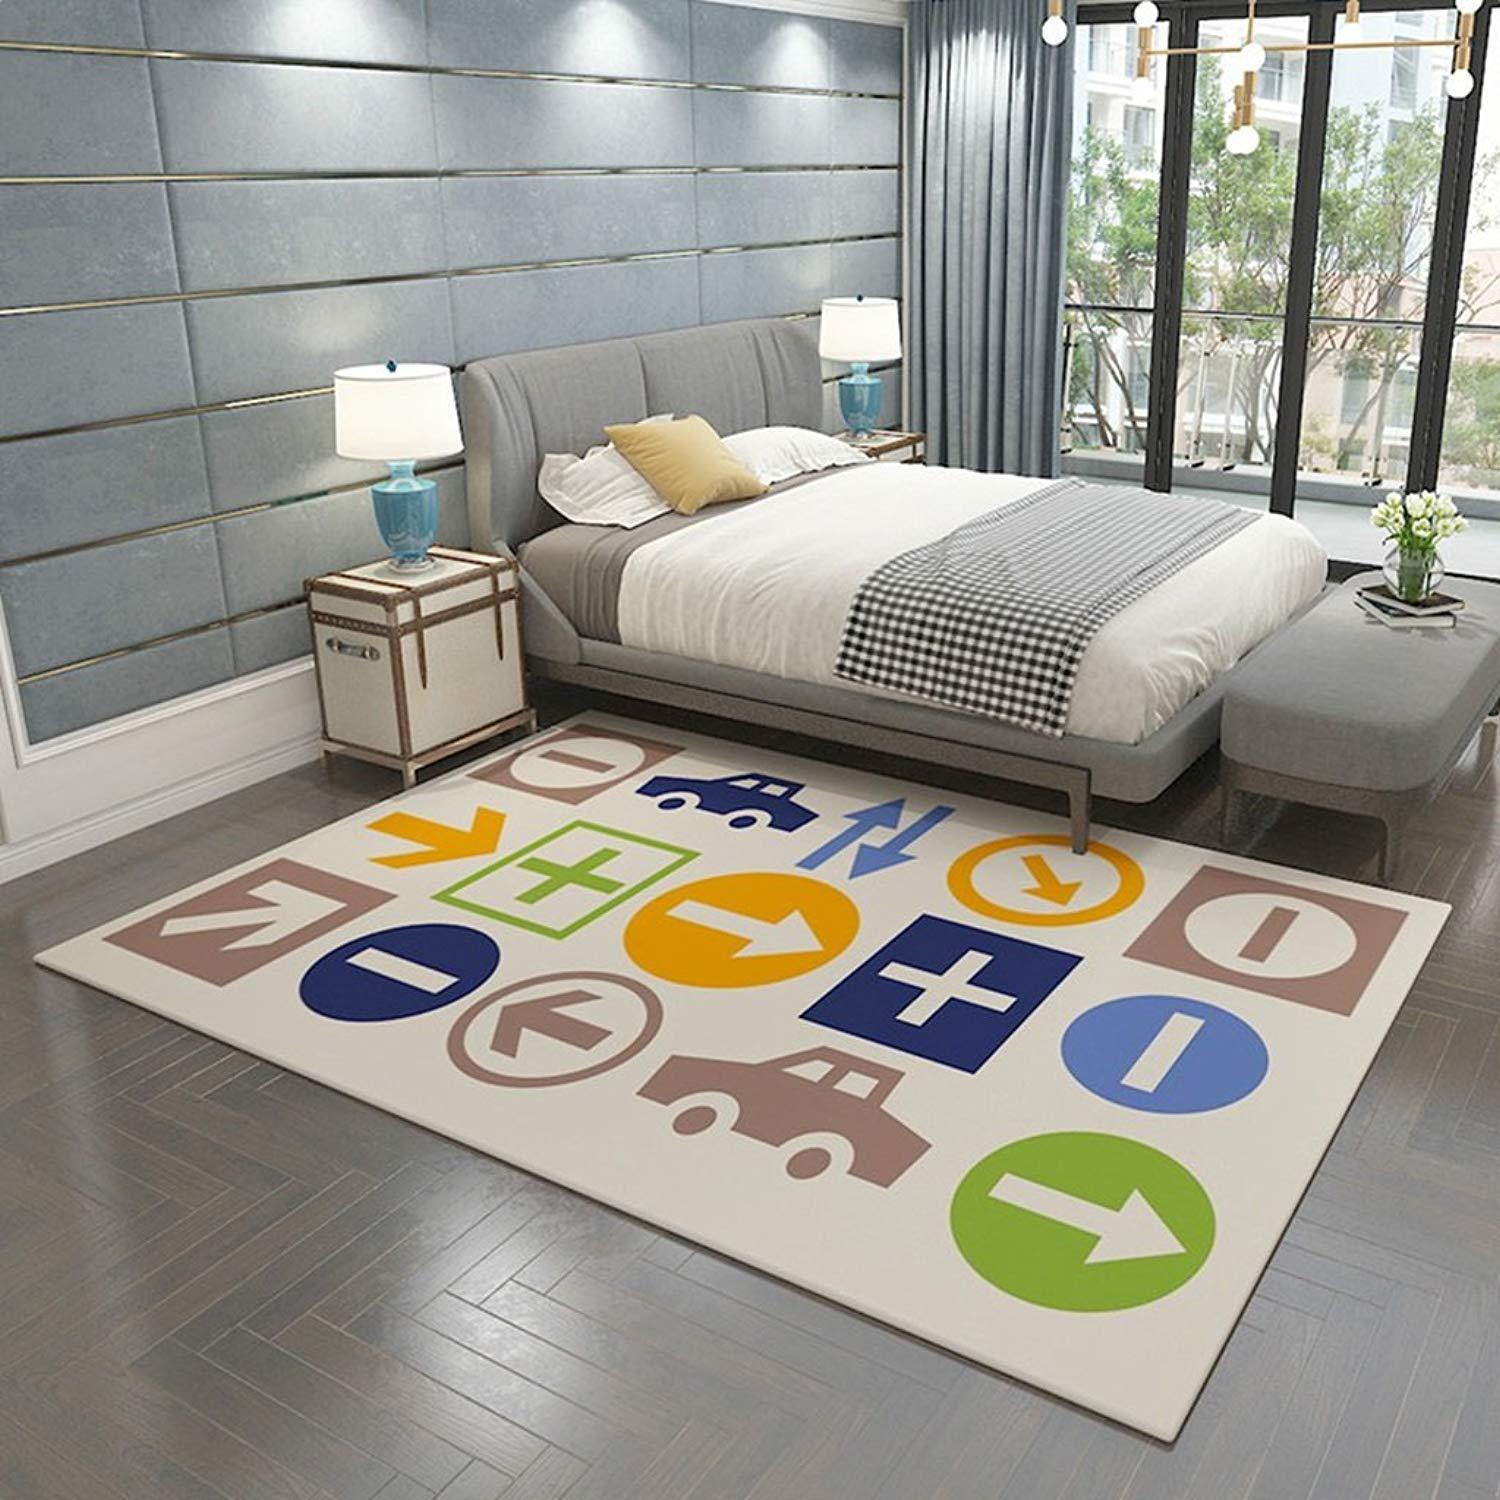bed: (657, 386, 1283, 797)
